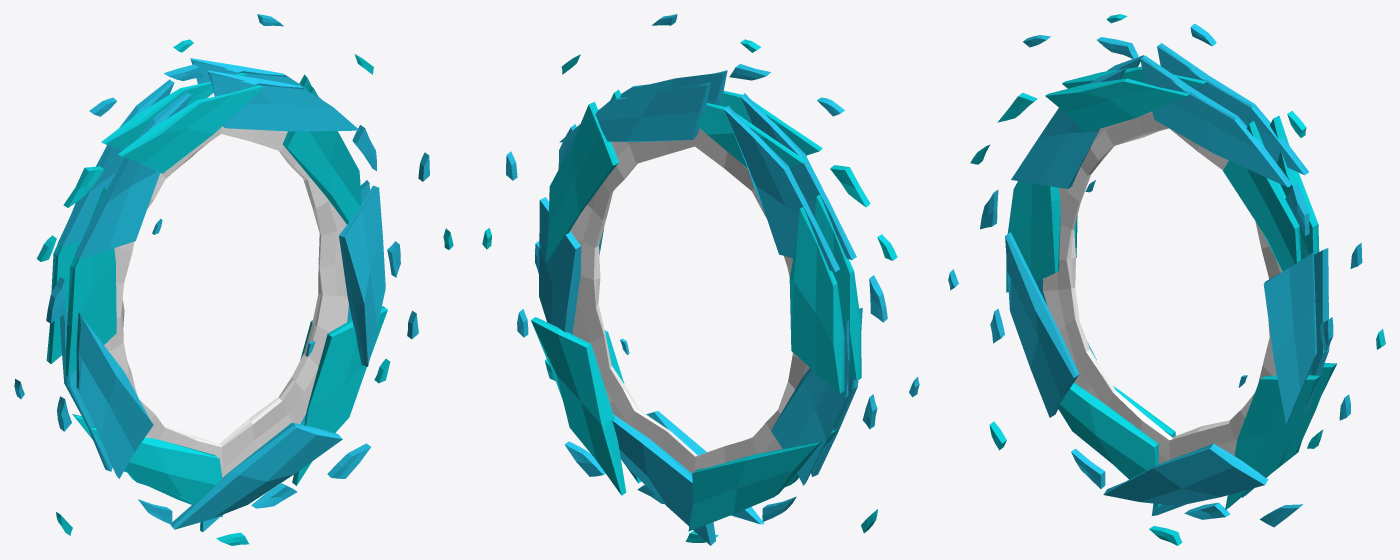
File: Portal_01.gltf
The picture shows the model from 3 angles, left to right: view 1: azimuth 30°, elevation 25°; view 2: azimuth 150°, elevation 25°; view 3: azimuth 330°, elevation 25°; orthographic projection.
Parts seen in each view (by area): view 1: node-0; view 2: node-0; view 3: node-0.
Boxes of the visible parts, left/top/right/bottom form: node-0: left=14, top=14, right=453, bottom=545; node-0: left=482, top=14, right=919, bottom=545; node-0: left=948, top=14, right=1385, bottom=545.
Bounding box in the file's own units: 13.72 × 15.81 × 2.06.
